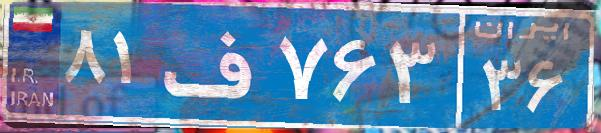1: (110, 28, 158, 105)
3: (385, 28, 445, 110), (475, 38, 525, 113)
6: (330, 28, 385, 110), (525, 38, 570, 115)
7: (273, 28, 330, 110)
8: (57, 26, 110, 107)
ف: (158, 15, 273, 115)
